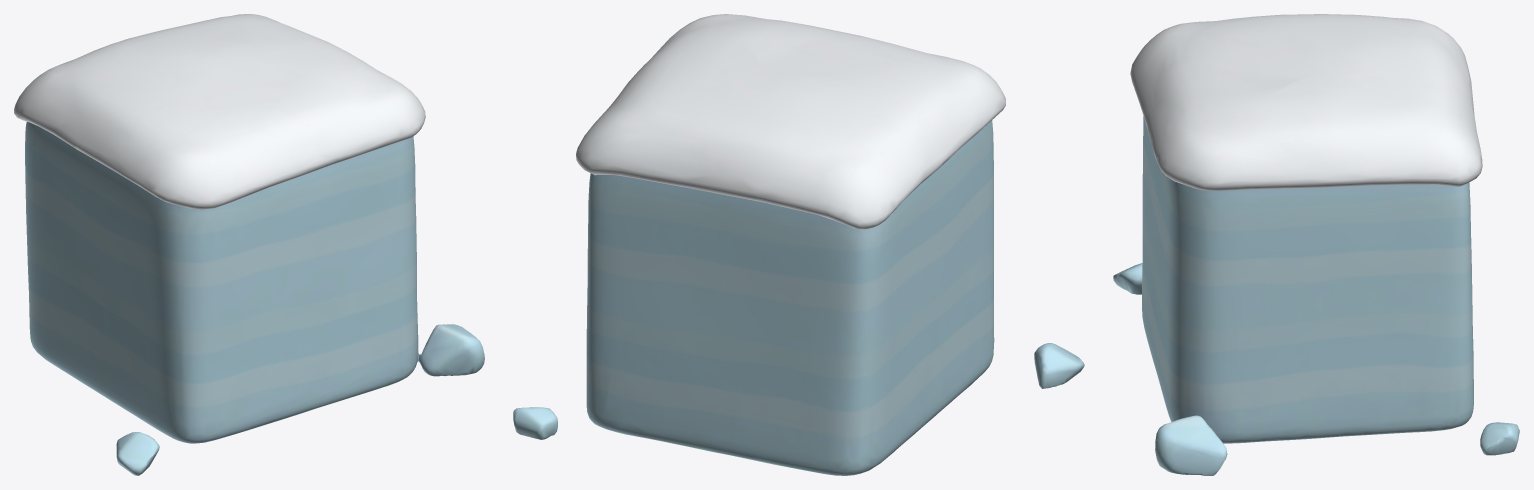
The model's file is ice-cube.glb.
3 views of the same model, side by side, from view 1: azimuth 30°, elevation 25°; view 2: azimuth 150°, elevation 25°; view 3: azimuth 270°, elevation 25° (orthographic). The views are drawn at different scales.
Visible parts, largest first — view 1: ice-block_body; view 2: ice-block_body; view 3: ice-block_body.
Boxes of the visible parts, box(x1,y1,x2,y2) form: ice-block_body: box(14, 14, 484, 475); ice-block_body: box(513, 14, 1084, 475); ice-block_body: box(1113, 14, 1519, 475).
Size of the model in its own units: 1.39 by 1.03 by 1.21.
1 material, 1 textured.
